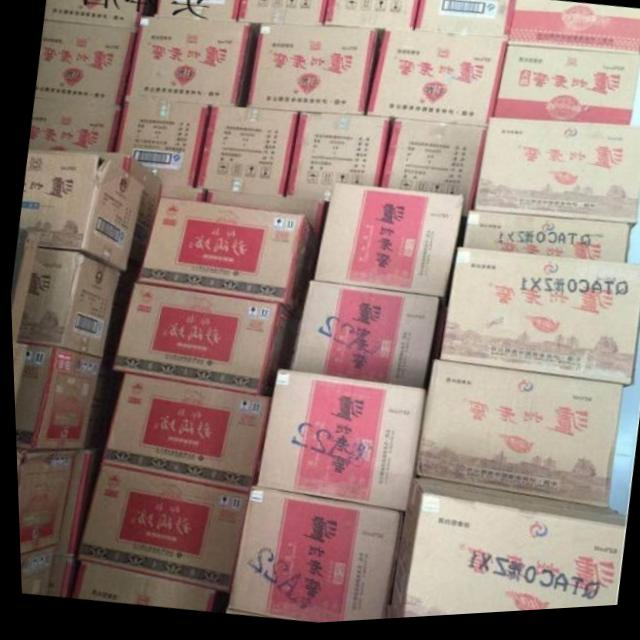box: (381, 479, 620, 623), (414, 364, 621, 514), (436, 252, 640, 392), (252, 372, 425, 516), (226, 488, 398, 625), (70, 463, 245, 592), (135, 199, 318, 318), (109, 285, 299, 398), (99, 372, 269, 494), (471, 125, 640, 231), (309, 189, 462, 303), (286, 285, 439, 390), (16, 153, 143, 275), (364, 33, 504, 136), (491, 49, 640, 133), (243, 28, 382, 115), (9, 247, 117, 358), (125, 19, 256, 109), (10, 339, 99, 451), (379, 122, 484, 216), (192, 107, 297, 199), (284, 117, 390, 206), (108, 98, 211, 187), (461, 219, 628, 273), (35, 23, 130, 110), (506, 4, 640, 63), (65, 561, 216, 613), (13, 447, 76, 553), (107, 154, 158, 266), (48, 448, 98, 559), (203, 191, 319, 238), (29, 98, 116, 155), (74, 364, 124, 451), (415, 0, 513, 43), (323, 0, 420, 36), (45, 0, 154, 32), (236, 0, 325, 28), (154, 0, 240, 24), (16, 545, 53, 595), (41, 557, 73, 595), (159, 182, 207, 205)
